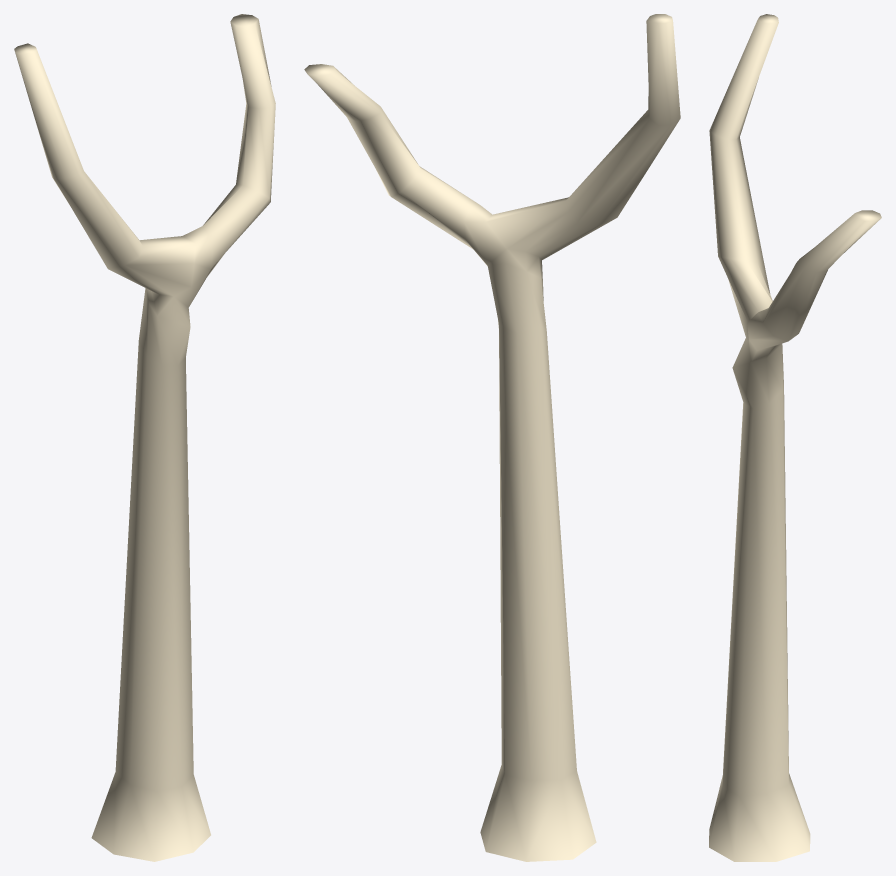
File: TreeTrunk_20.fbx
The picture shows the model from 3 angles, left to right: view 1: azimuth 30°, elevation 25°; view 2: azimuth 150°, elevation 25°; view 3: azimuth 270°, elevation 25°; orthographic projection. The views are drawn at different scales.
Parts seen in each view (by area): view 1: TreeTrunk_20; view 2: TreeTrunk_20; view 3: TreeTrunk_20.
Boxes of the visible parts, box(x1,y1,x2,y2) form: TreeTrunk_20: box(14, 14, 275, 861); TreeTrunk_20: box(304, 14, 680, 861); TreeTrunk_20: box(709, 14, 881, 861).
Size of the model in its own units: 155 by 408 by 83.48.
